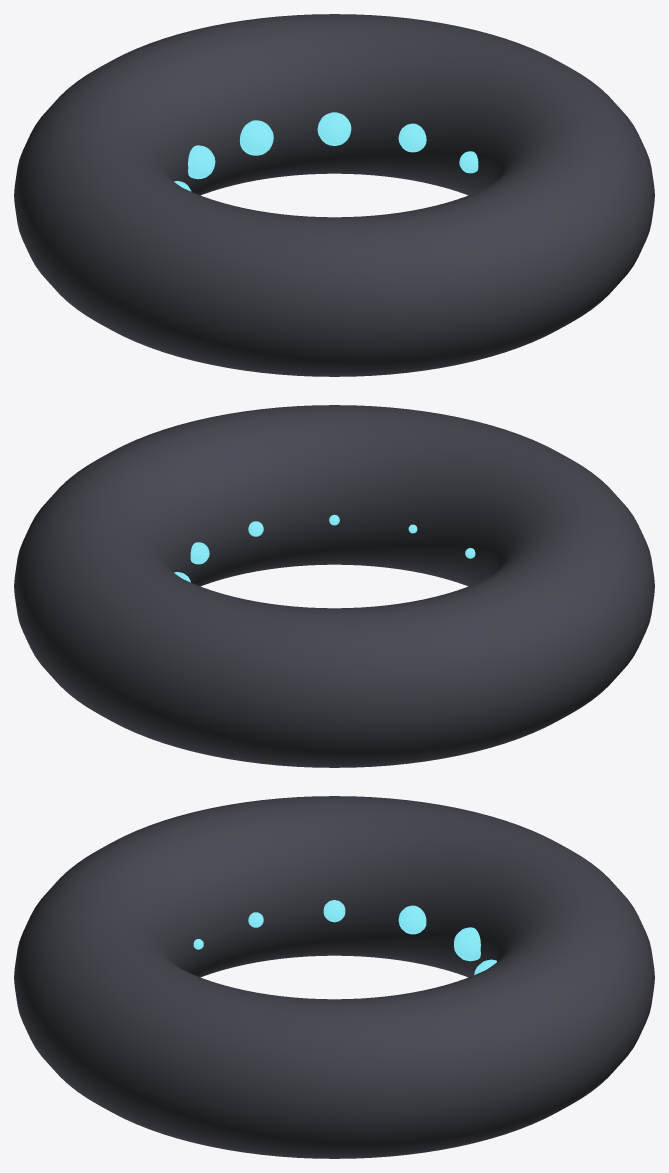
The picture shows the model from 3 angles, top to bottom: view 1: azimuth 30°, elevation 25°; view 2: azimuth 150°, elevation 25°; view 3: azimuth 270°, elevation 25°; orthographic projection.
Parts seen in each view (by area): view 1: hull_mesh, inner; view 2: hull_mesh, inner; view 3: hull_mesh, inner.
Boxes of the visible parts, x1,y1,x2,y2 form: hull_mesh: (14,14,654,376); inner: (174,112,478,191); hull_mesh: (14,405,654,767); inner: (174,514,475,582); hull_mesh: (14,796,654,1158); inner: (193,900,496,974).
Bounding box in the file's own units: 10 × 2.5 × 10.
